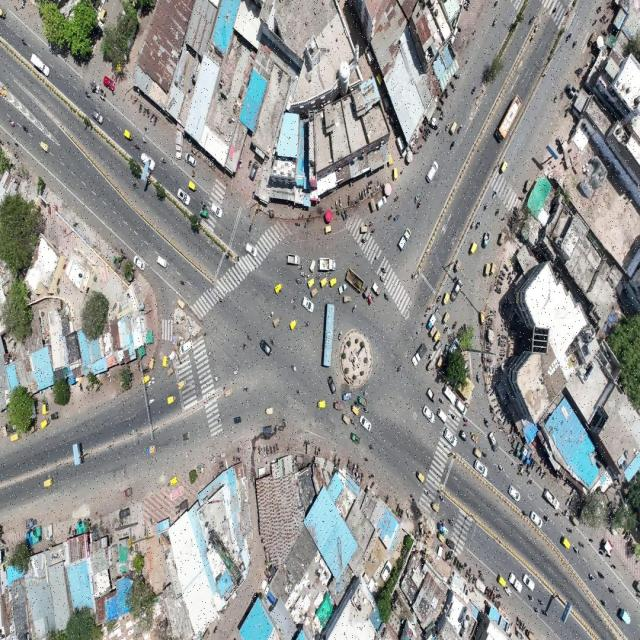3W: (431, 329, 444, 343), (176, 297, 188, 312), (287, 316, 299, 330), (39, 140, 51, 154), (223, 387, 235, 400), (599, 594, 608, 611), (416, 467, 425, 483), (472, 531, 482, 545), (489, 260, 497, 277), (166, 475, 178, 486), (488, 463, 499, 475), (618, 576, 629, 588), (165, 394, 177, 405), (42, 477, 55, 487), (272, 314, 281, 328), (266, 401, 275, 415), (479, 309, 486, 327), (189, 177, 198, 191), (489, 556, 499, 568), (497, 231, 505, 246), (470, 240, 477, 257), (441, 293, 450, 306), (123, 129, 132, 142), (342, 413, 350, 427), (39, 418, 49, 429), (317, 398, 326, 410), (166, 367, 176, 377), (449, 123, 459, 133), (147, 358, 156, 369), (351, 405, 360, 416), (462, 531, 469, 545), (500, 160, 507, 174), (361, 223, 368, 236), (177, 380, 187, 389), (274, 282, 283, 292), (309, 261, 317, 272), (483, 264, 490, 276), (392, 168, 399, 180), (320, 277, 328, 287), (443, 313, 449, 326), (139, 377, 151, 383), (307, 278, 315, 287), (324, 225, 333, 233), (41, 405, 48, 415), (161, 356, 168, 366), (344, 294, 351, 304), (329, 277, 336, 287), (311, 289, 318, 298), (430, 327, 436, 337)
Bus: (497, 96, 523, 138), (320, 301, 335, 369)
Cars: (578, 568, 605, 594), (178, 337, 194, 356), (299, 297, 317, 313), (427, 158, 438, 184), (550, 527, 564, 547), (452, 282, 465, 303), (422, 408, 435, 429), (442, 385, 456, 404), (455, 400, 469, 419), (141, 150, 155, 169), (489, 434, 502, 454), (132, 253, 145, 272), (475, 461, 487, 481), (244, 241, 257, 259), (209, 201, 223, 217), (178, 190, 191, 206), (443, 420, 456, 436), (360, 415, 373, 431), (104, 75, 117, 91), (258, 341, 271, 356), (327, 383, 339, 398), (376, 196, 386, 214), (155, 254, 167, 268), (92, 109, 102, 123)
LCV: (345, 265, 377, 308), (537, 485, 564, 514), (30, 45, 52, 78), (410, 345, 429, 367), (398, 224, 411, 254), (319, 255, 336, 273), (287, 250, 301, 267), (370, 276, 381, 296), (341, 386, 352, 402), (427, 384, 436, 403), (483, 229, 492, 247), (519, 500, 531, 513), (438, 524, 450, 537), (358, 393, 370, 406), (350, 433, 360, 446), (121, 487, 133, 497), (427, 315, 436, 328), (146, 445, 157, 455), (338, 284, 349, 294), (262, 427, 272, 437), (200, 209, 209, 219), (334, 400, 343, 410)
M2W: (395, 358, 406, 376), (518, 584, 526, 600), (457, 120, 466, 134), (481, 198, 489, 213), (481, 417, 490, 430), (492, 16, 501, 28), (491, 189, 500, 201), (23, 120, 30, 135), (552, 92, 560, 105), (247, 330, 256, 341), (213, 374, 221, 386), (21, 35, 29, 47), (550, 610, 557, 623), (392, 211, 399, 224), (217, 295, 226, 305), (149, 396, 158, 406), (416, 200, 424, 211), (449, 140, 456, 152), (369, 443, 376, 455), (9, 115, 15, 129), (495, 551, 504, 560), (510, 474, 518, 484), (521, 169, 527, 182), (353, 304, 359, 317), (378, 274, 384, 286), (243, 382, 249, 394), (486, 569, 494, 578), (363, 457, 372, 465), (241, 342, 248, 352), (233, 365, 240, 375), (540, 509, 547, 519), (492, 480, 499, 490), (85, 89, 92, 99), (270, 336, 276, 347), (451, 272, 457, 283), (368, 216, 374, 227), (470, 85, 476, 96), (558, 89, 564, 100), (476, 220, 481, 233), (293, 303, 300, 312), (297, 264, 304, 273), (267, 311, 276, 318), (360, 236, 367, 245), (424, 488, 431, 497), (531, 489, 538, 498), (434, 295, 441, 304), (295, 389, 301, 399), (296, 276, 301, 288), (476, 365, 482, 375), (505, 462, 511, 472), (494, 207, 500, 217), (414, 194, 420, 204), (383, 292, 389, 302), (371, 228, 377, 237), (305, 319, 311, 328), (380, 265, 386, 274), (350, 417, 356, 426), (445, 123, 450, 133), (292, 362, 297, 372), (337, 331, 342, 341), (353, 249, 360, 256), (201, 199, 207, 207), (363, 388, 368, 397), (373, 254, 378, 263), (364, 407, 370, 414), (291, 297, 296, 304), (497, 456, 502, 463), (394, 193, 399, 200), (435, 307, 440, 314), (527, 496, 531, 504), (180, 280, 185, 286)
